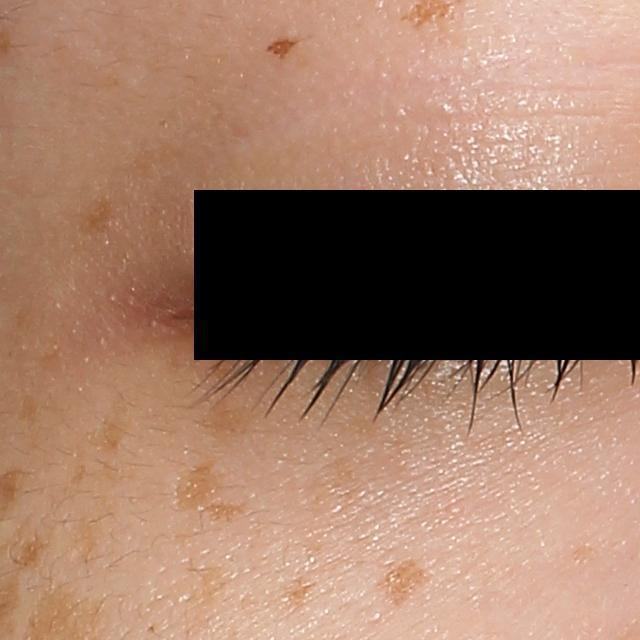melasma: (372, 555, 429, 612), (171, 456, 221, 511), (91, 397, 131, 459), (198, 398, 248, 443), (81, 190, 116, 241), (194, 497, 247, 528), (12, 535, 55, 573)
